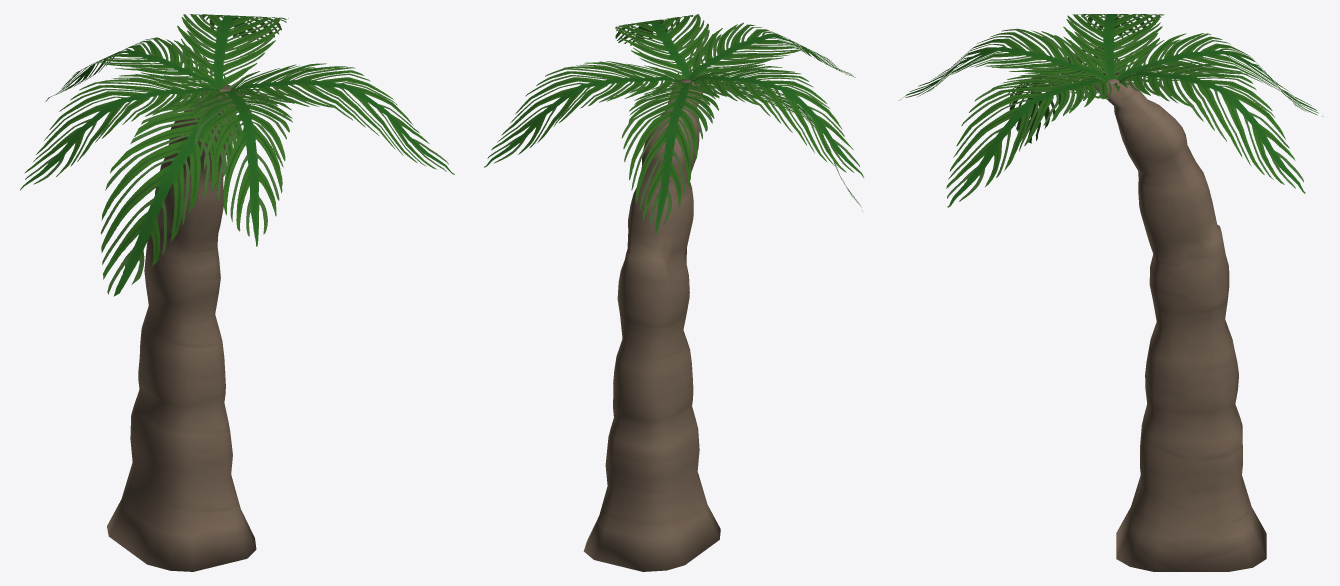
The model's file is palmu.fbx.
The picture shows the model from 3 angles, left to right: view 1: azimuth 30°, elevation 25°; view 2: azimuth 150°, elevation 25°; view 3: azimuth 270°, elevation 25°; orthographic projection. The views are drawn at different scales.
Visible parts, largest first — view 1: Palmu, lehti.001, lehti, lehti3, lehti2, lehti5, lehti4; view 2: Palmu, lehti4, lehti5, lehti3, lehti, lehti2, lehti.001; view 3: Palmu, lehti2, lehti5, lehti, lehti3, lehti4, lehti.001.
Boxes of the visible parts, x1,y1,x2,y2 form: Palmu: [107, 84, 256, 571]; lehti.001: [100, 91, 251, 296]; lehti: [189, 88, 292, 246]; lehti3: [20, 73, 227, 190]; lehti2: [231, 63, 454, 174]; lehti5: [177, 14, 288, 88]; lehti4: [45, 37, 225, 101]; Palmu: [583, 75, 720, 571]; lehti4: [621, 82, 719, 234]; lehti5: [484, 61, 690, 167]; lehti3: [690, 65, 863, 177]; lehti: [678, 22, 855, 83]; lehti2: [615, 14, 713, 82]; lehti.001: [699, 75, 862, 211]; Palmu: [1089, 73, 1266, 571]; lehti2: [946, 71, 1119, 207]; lehti5: [1114, 61, 1305, 193]; lehti: [898, 28, 1109, 100]; lehti3: [1063, 14, 1164, 79]; lehti4: [1115, 33, 1323, 116]; lehti.001: [1008, 47, 1119, 143].
Size of the model in its own units: 302 by 408 by 325.
